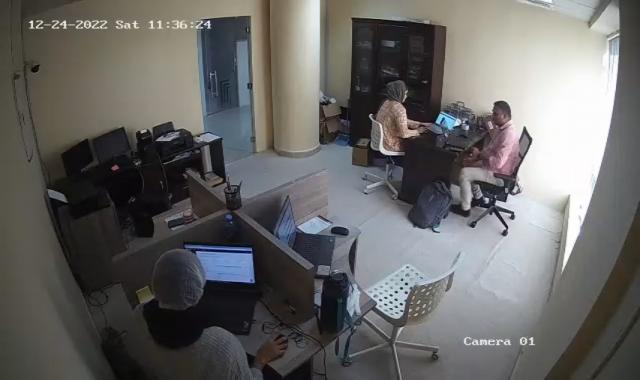hairnet: (150, 246, 206, 315)
no_hairnet: (383, 76, 409, 105), (490, 100, 512, 125)
